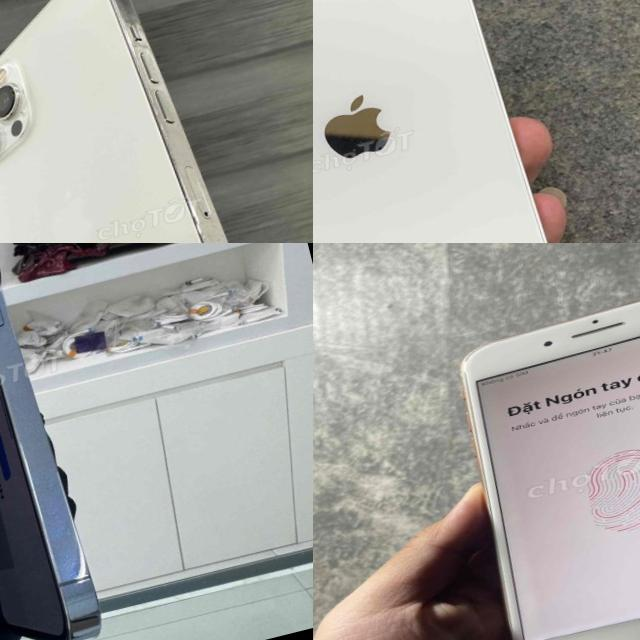gen_12_13: (0, 0, 313, 243), (313, 0, 576, 243), (0, 243, 122, 640)
gen_7_8: (440, 268, 640, 640)
